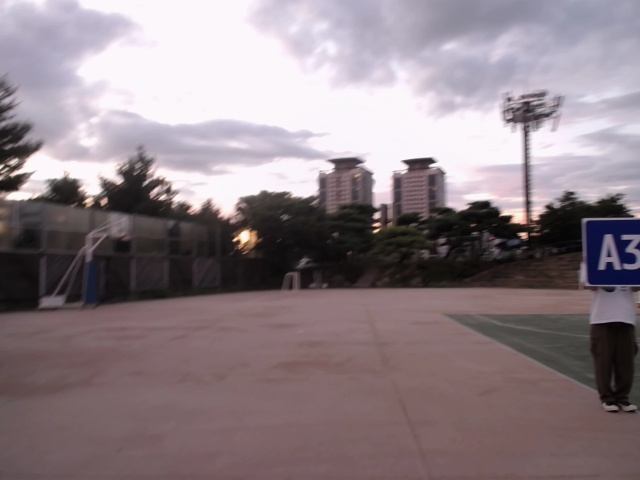delivery_a3: (581, 218, 639, 285)
